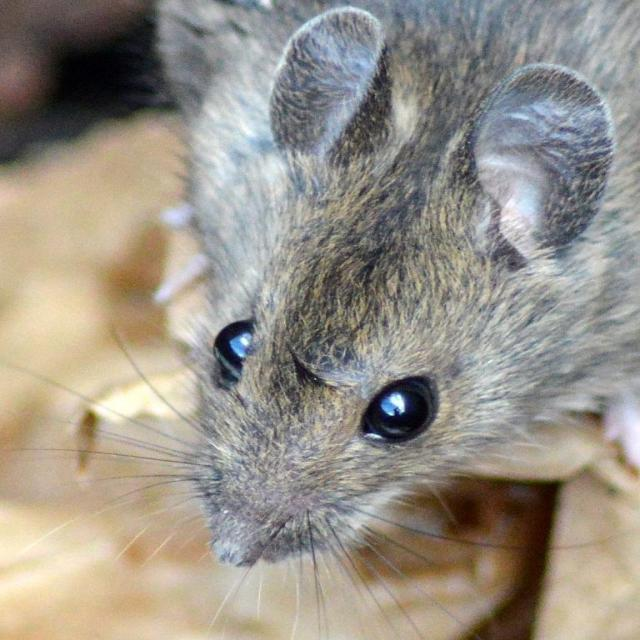rat: (153, 0, 640, 569)
